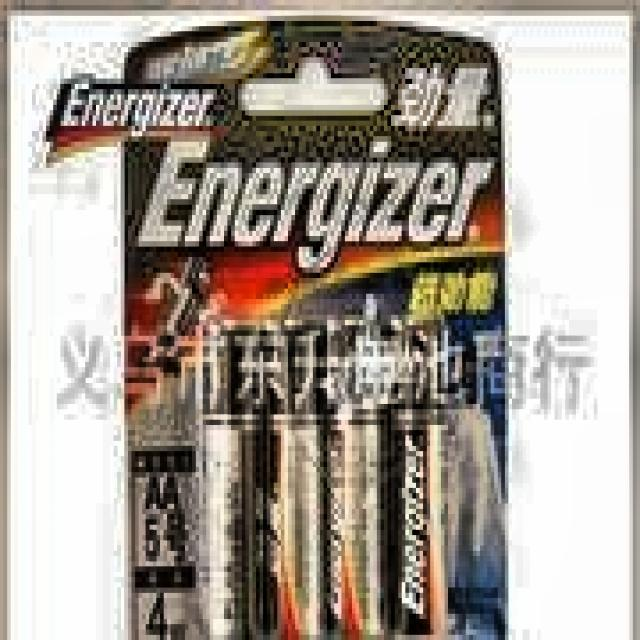Non-Valuable Waste - Batteries: (119, 20, 502, 637)
